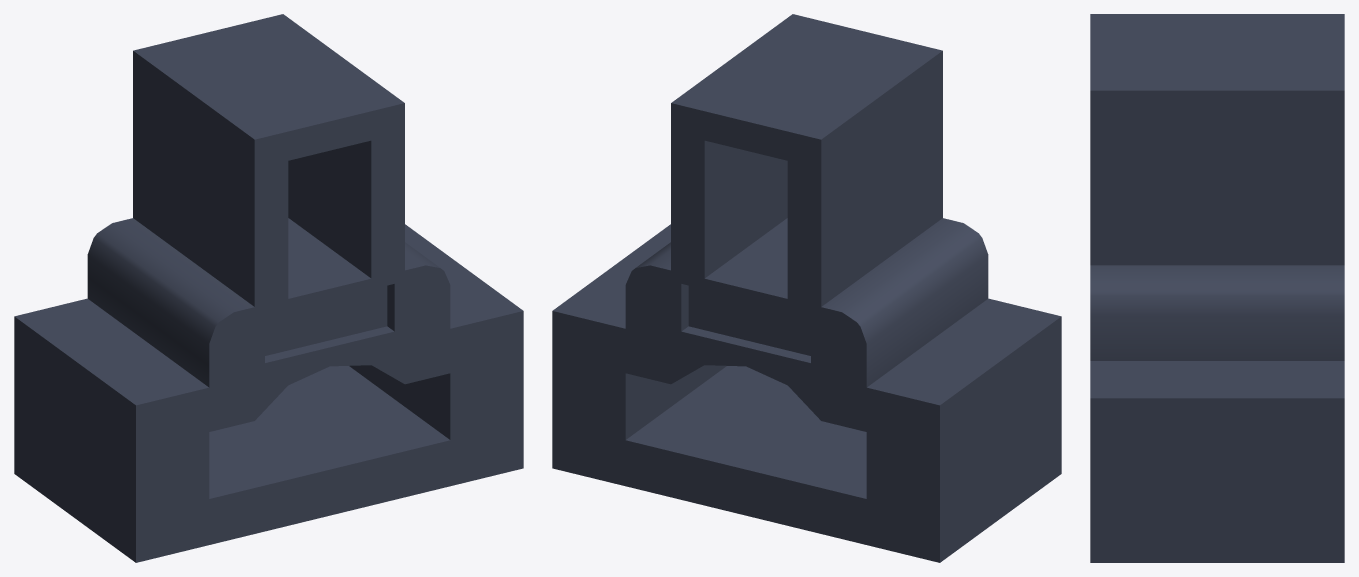
File: SM_metal_amboss_01.fbx
3 views of the same model, side by side, from view 1: azimuth 30°, elevation 25°; view 2: azimuth 150°, elevation 25°; view 3: azimuth 270°, elevation 25° (orthographic). The views are drawn at different scales.
Parts seen in each view (by area): view 1: metal_amboss_01; view 2: metal_amboss_01; view 3: metal_amboss_01.
Boxes of the visible parts, x1,y1,x2,y2 form: metal_amboss_01: (14, 14, 523, 562); metal_amboss_01: (552, 14, 1061, 562); metal_amboss_01: (1090, 14, 1344, 562).
Size of the model in its own units: 73.85 by 71.79 by 40.16.
